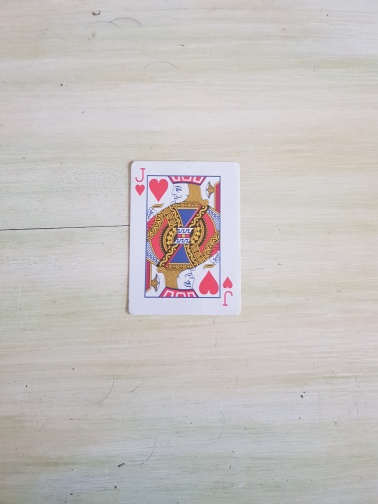jack: (127, 162, 242, 317)
